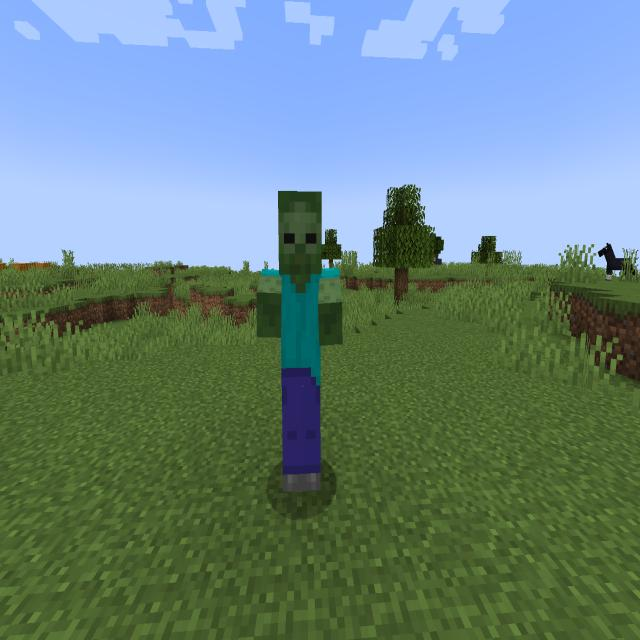Zombie: (250, 175, 350, 504)
